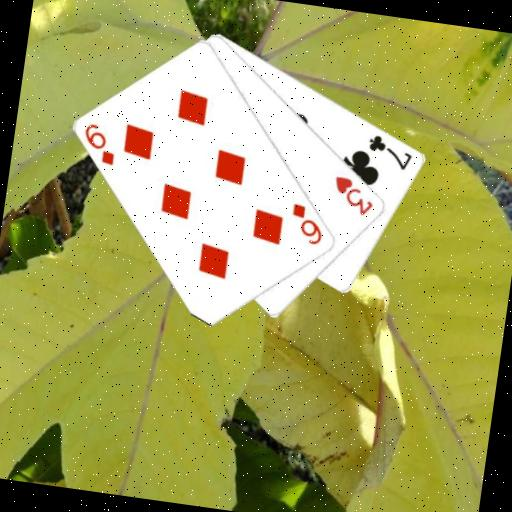3H: (328, 172, 379, 219)
6D: (78, 119, 122, 168), (286, 200, 329, 248)
7C: (363, 130, 417, 173)
